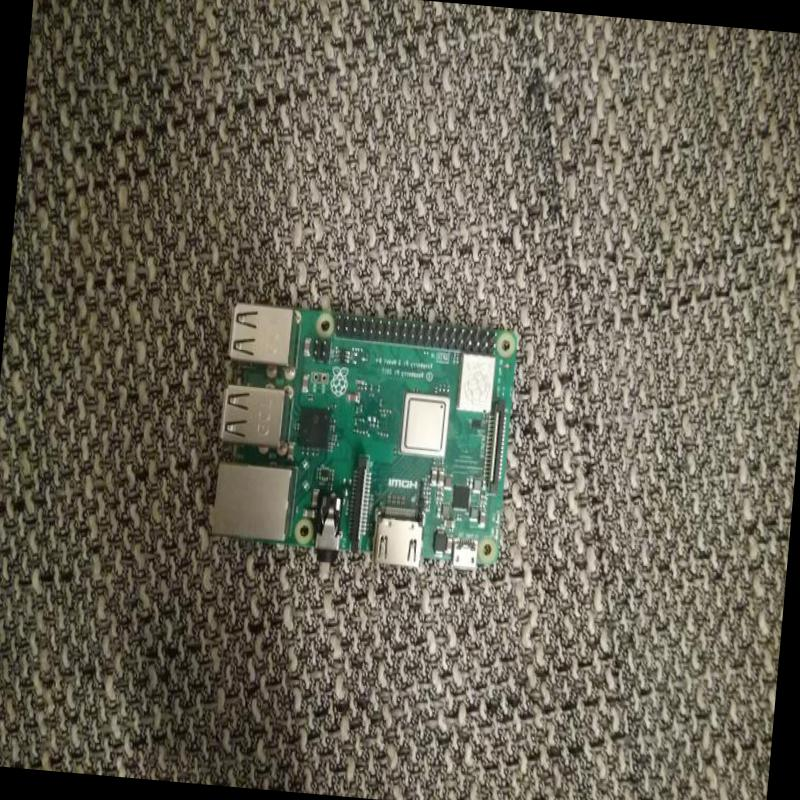Raspberry_Pi_3: (198, 294, 530, 590)
